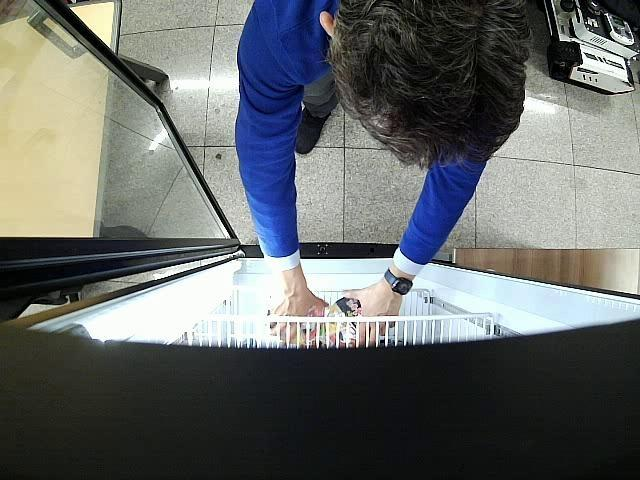07_buldak_L: (327, 297, 361, 347), (292, 306, 325, 344)
